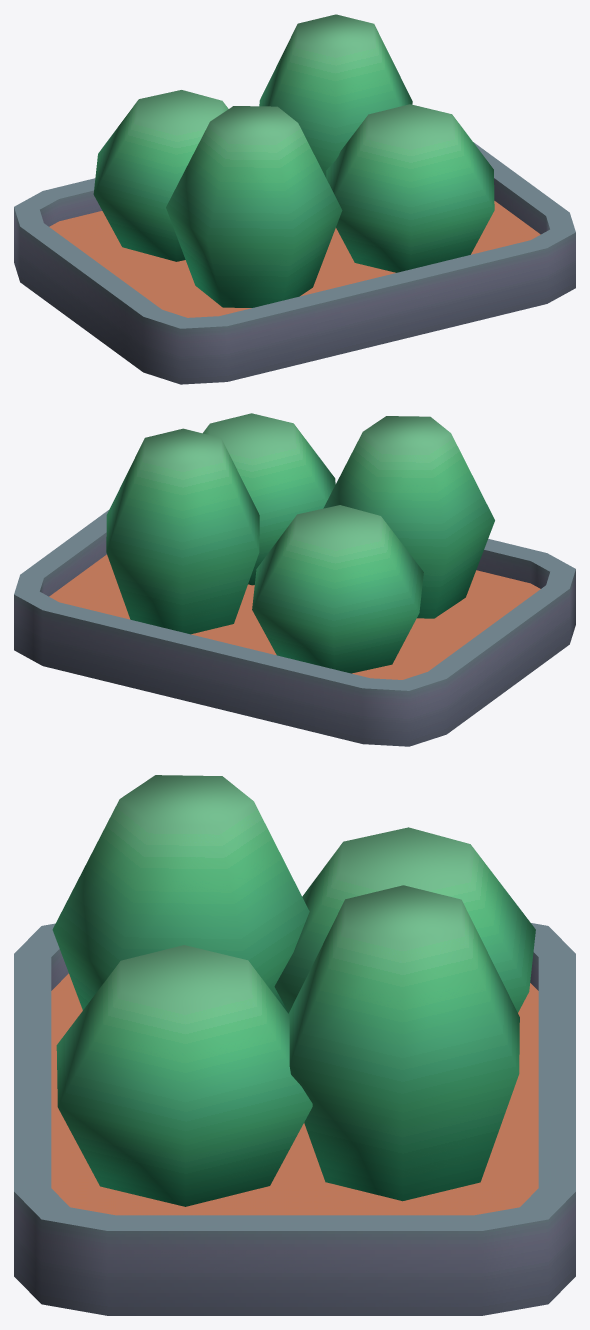
File: sub_planter.glb
3 views of the same model, one above another, from view 1: azimuth 30°, elevation 25°; view 2: azimuth 150°, elevation 25°; view 3: azimuth 270°, elevation 25° (orthographic). The views are drawn at different scales.
Visible parts, largest first — view 1: planter; view 2: planter; view 3: planter.
Part boxes in pixels (x1,y1,x2,y2): planter: (14, 14, 575, 384); planter: (14, 413, 575, 746); planter: (14, 775, 575, 1315).
Size of the model in its own units: 0.4 by 0.1771 by 0.3.
Materials: 1 (1 with a texture image).
